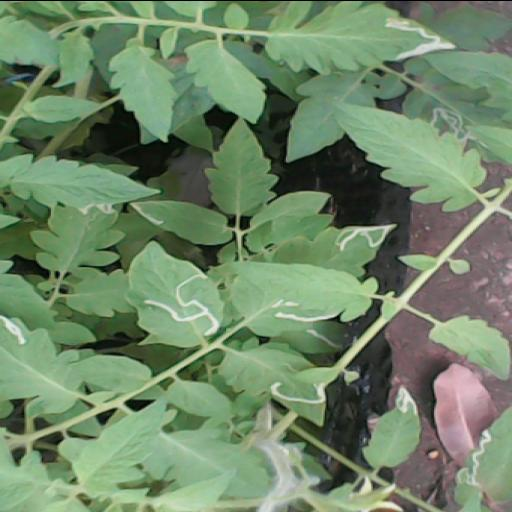disease_tomato: (264, 0, 460, 74), (123, 238, 225, 346), (275, 214, 402, 274)
